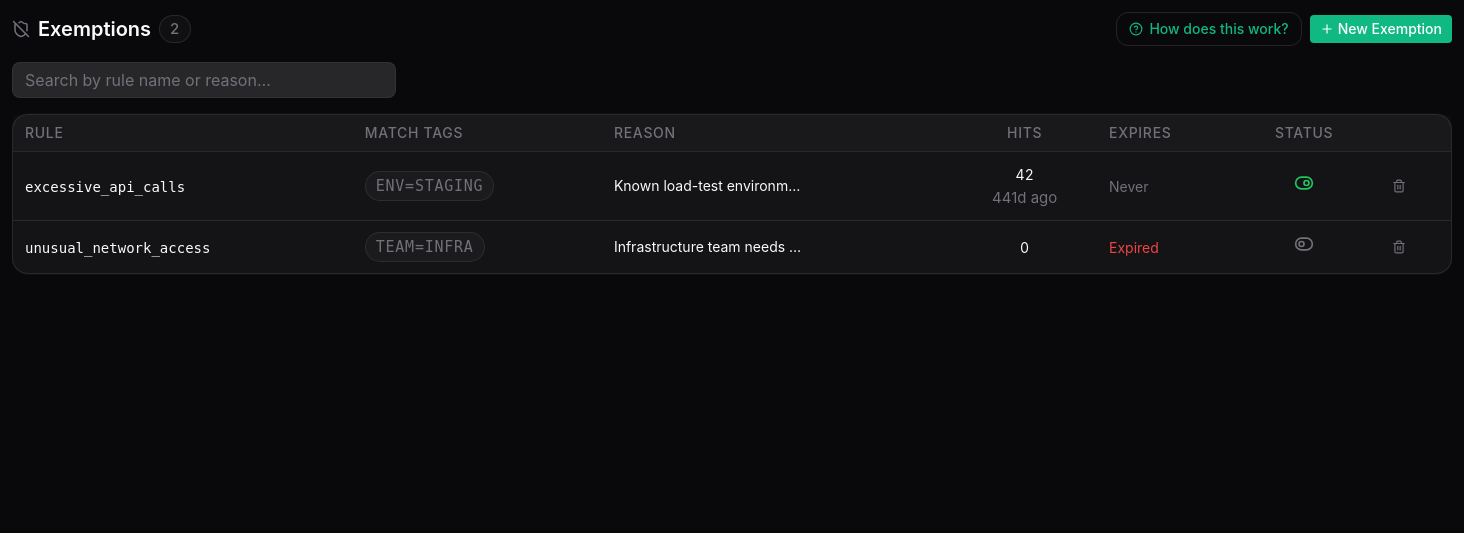
Test case: ExemptionsPage › shows create form when New Exemption is clicked
Click the button "New Exemption" at (1381, 29), box [1310,15,1452,43]
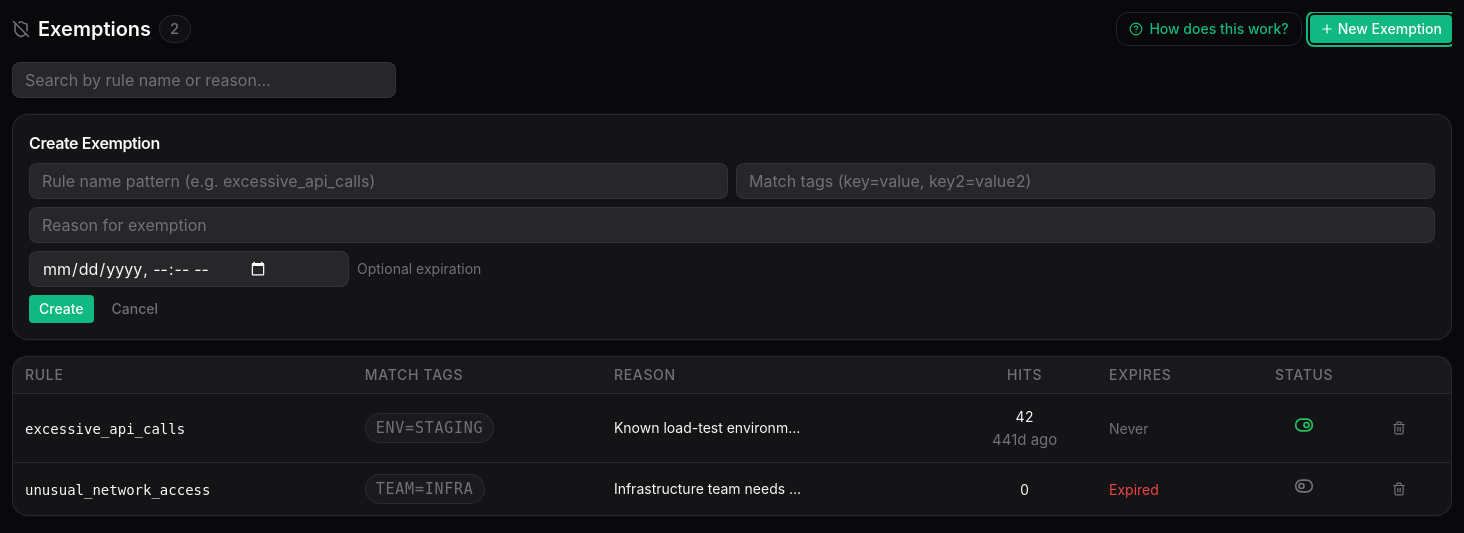
Check: the text "Create Exemption" is shown, box [29,133,160,153]
Check: the field labelled "Rule name" is shown, box [29,163,728,199]
Check: the field labelled "Match tags" is shown, box [736,163,1435,199]
